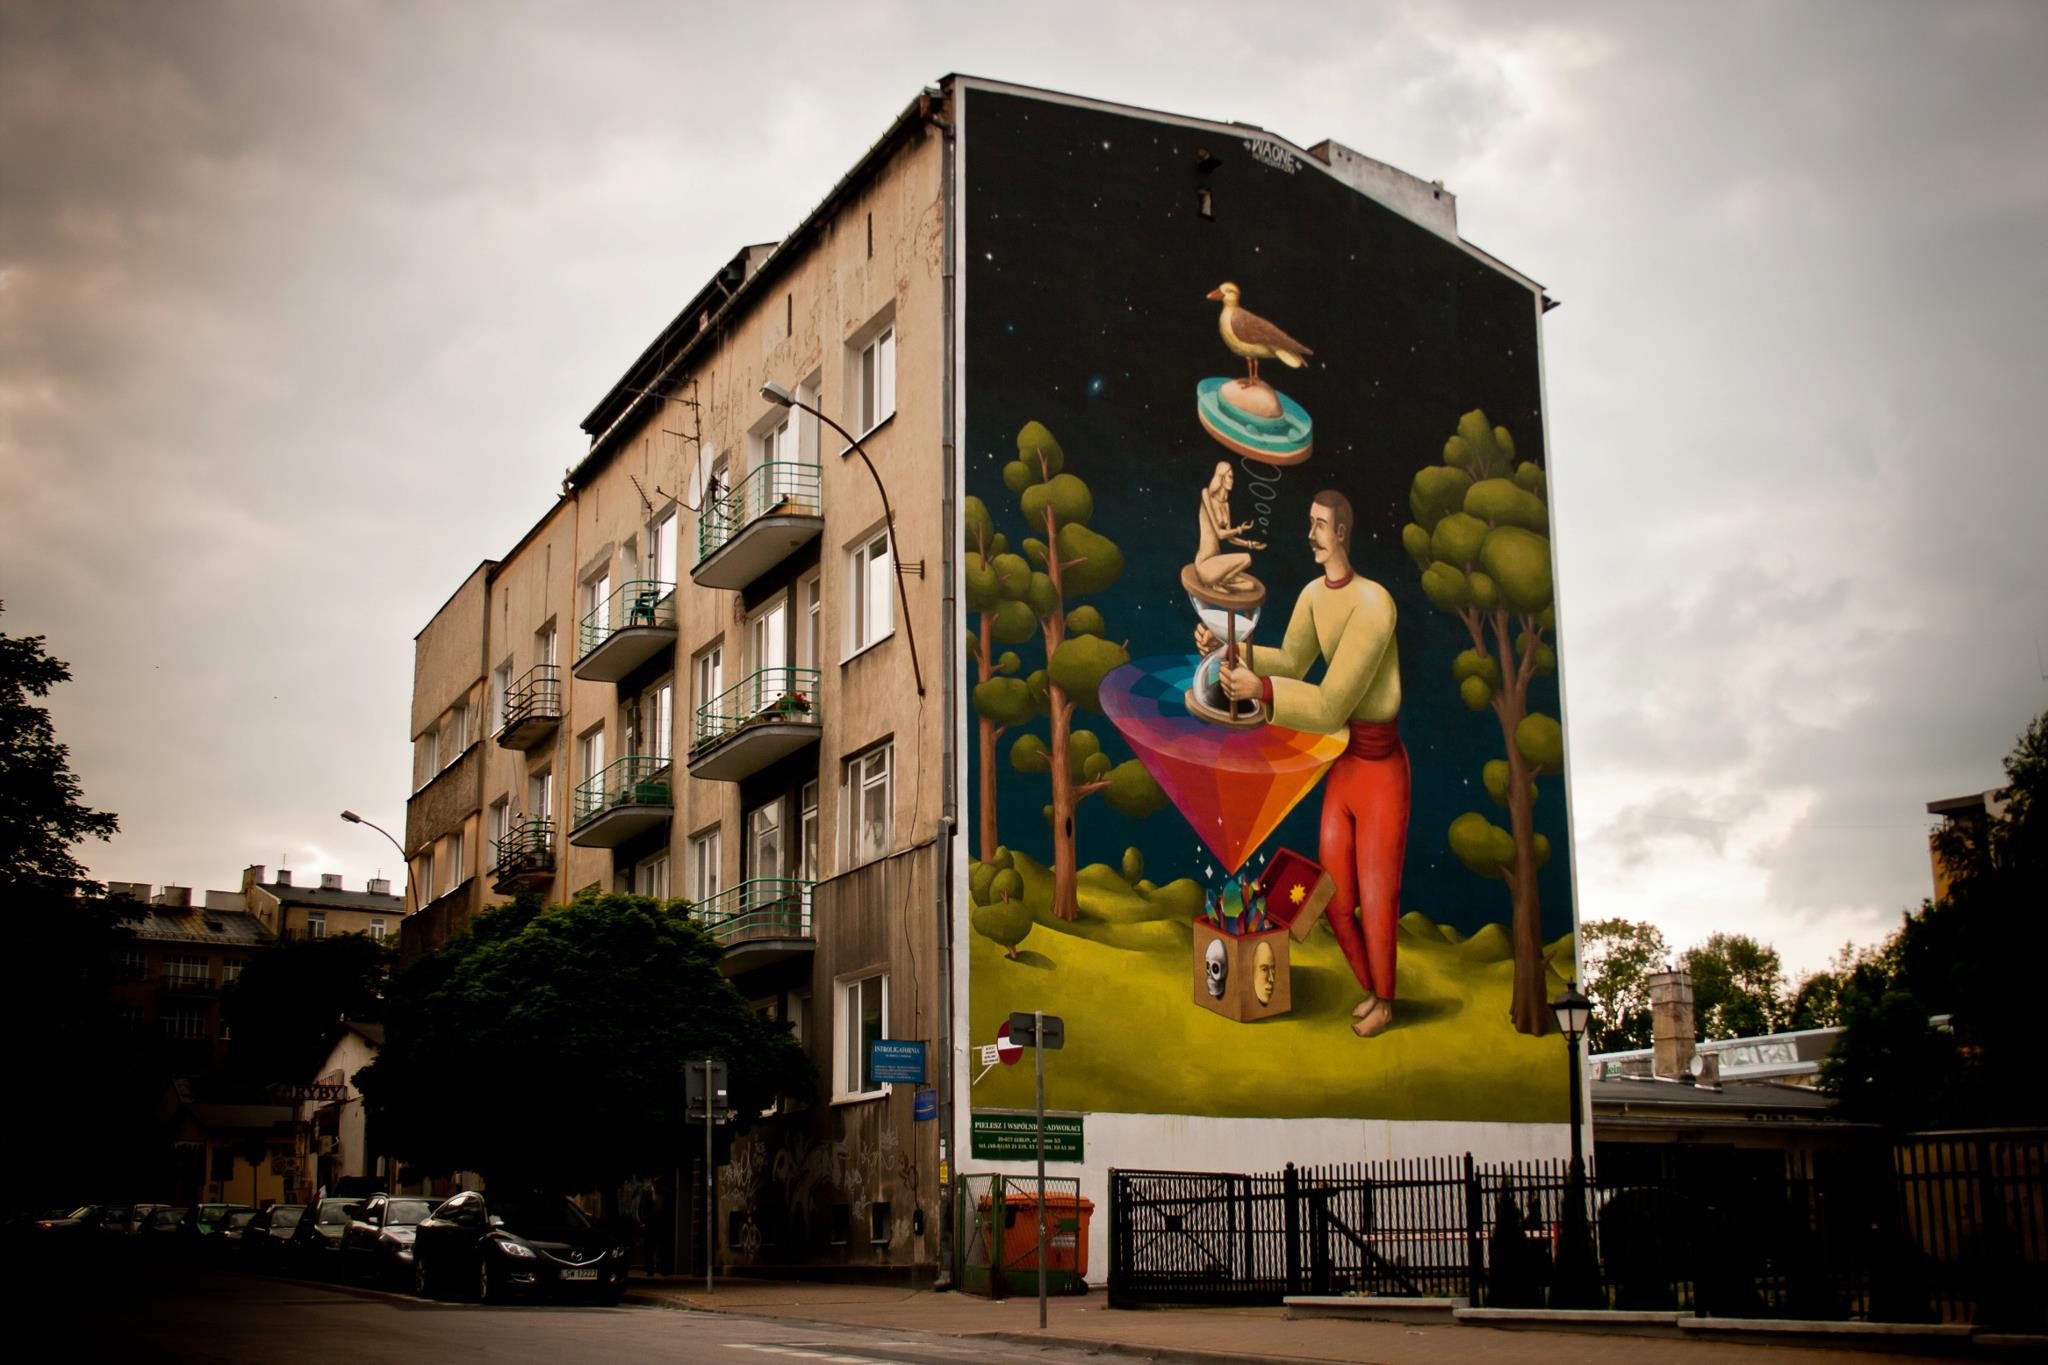graphite: (975, 197, 1577, 1117)
